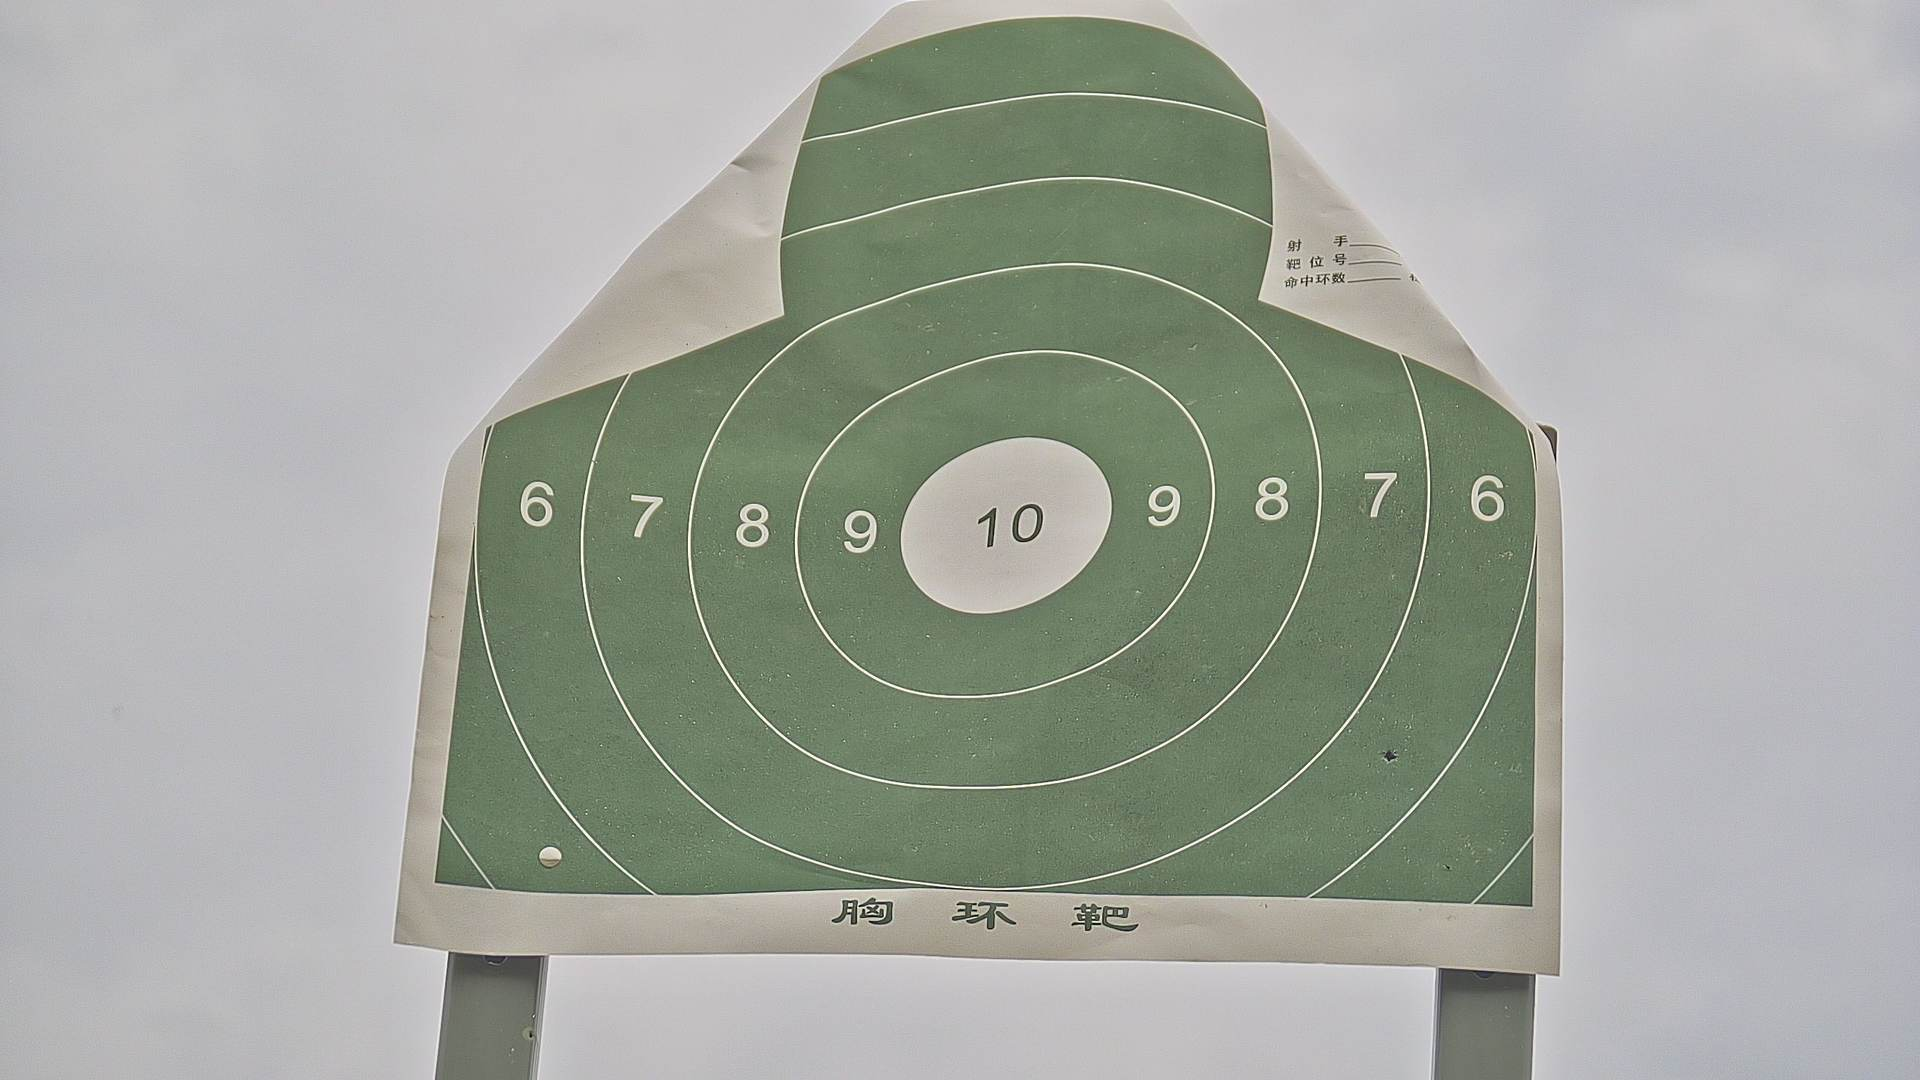hole: (1385, 749, 1396, 761)
kernel: (1001, 525, 1006, 526)
target: (433, 18, 1538, 916)
ten: (899, 435, 1110, 615)
